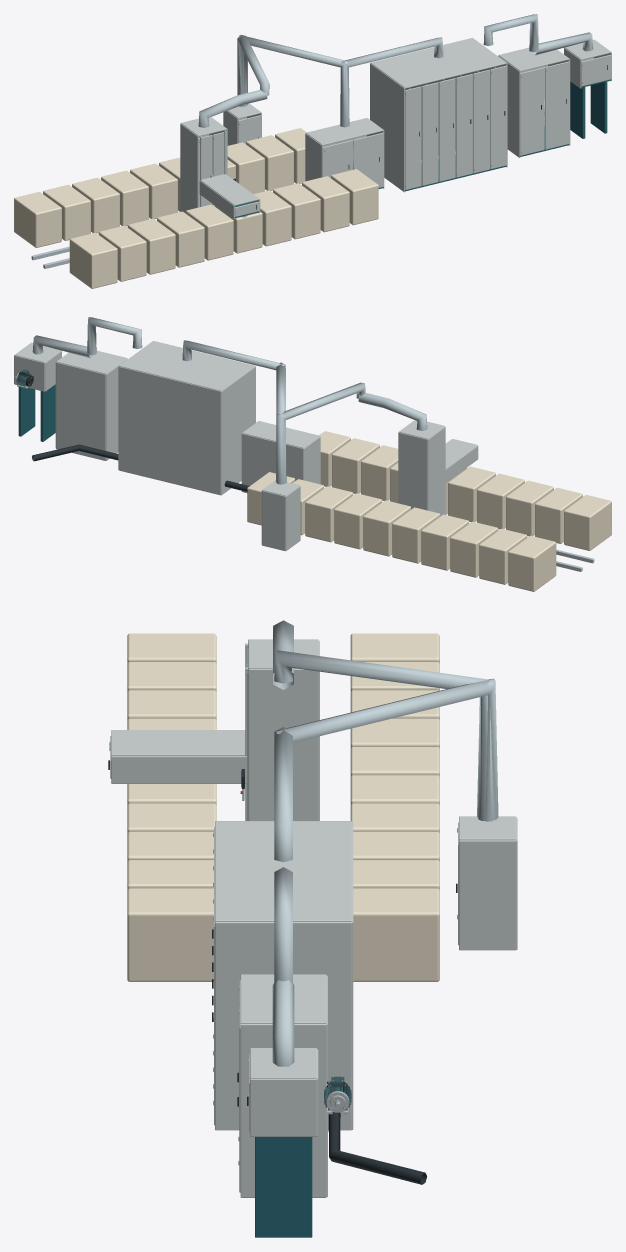
Rendered from opening.glb.
The picture shows the model from 3 angles, top to bottom: view 1: azimuth 30°, elevation 25°; view 2: azimuth 150°, elevation 25°; view 3: azimuth 270°, elevation 25°; orthographic projection. The views are drawn at different scales.
Visible parts, largest first — view 1: B72_roof, B72_end, cotton_bale, cotton_bale.001, A79_door.001, A79_door, B72_door, B72_door.001, B72_door.002, B72_door.005, B72_door.003, B72_door.004 (+42 smaller); view 2: B72_rear, A79_rear, B72_roof, B72_end, cotton_bale.001, cotton_bale, A12_tower_rear, B12_rear, cotton_bale.003, cotton_bale.005, cotton_bale.015, cotton_bale.007 (+33 smaller); view 3: B72_end.001, B72_roof, A12_tower_end.001, cotton_bale.019, cotton_bale.018, A49_end.001, condenser_support.001, intermachine_tuft_duct, A79_end.001, intermachine_tuft_duct.001, A21_end.001, A12_plucking_arm_end.001 (+27 smaller).
Boxes of the visible parts, <box> form: B72_roof: <box>371,38,506,88</box>; B72_end: <box>370,63,405,192</box>; cotton_bale: <box>69,232,117,288</box>; cotton_bale.001: <box>14,192,61,247</box>; A79_door.001: <box>545,61,569,149</box>; A79_door: <box>520,67,544,155</box>; B72_door: <box>405,86,421,189</box>; B72_door.001: <box>422,82,438,185</box>; B72_door.002: <box>439,78,455,181</box>; B72_door.005: <box>490,65,506,169</box>; B72_door.003: <box>456,74,472,177</box>; B72_door.004: <box>473,69,489,173</box>; B72_rear: <box>118,366,221,495</box>; A79_rear: <box>56,362,105,460</box>; B72_roof: <box>119,341,254,390</box>; B72_end: <box>221,366,255,495</box>; cotton_bale.001: <box>508,535,556,591</box>; cotton_bale: <box>564,495,611,550</box>; A12_tower_rear: <box>398,432,427,510</box>; B12_rear: <box>242,433,303,492</box>; cotton_bale.003: <box>479,528,527,584</box>; cotton_bale.005: <box>450,521,498,577</box>; cotton_bale.015: <box>305,486,352,542</box>; cotton_bale.007: <box>421,514,468,570</box>; B72_end.001: <box>215,922,351,1130</box>; B72_roof: <box>215,821,351,921</box>; A12_tower_end.001: <box>248,668,318,820</box>; cotton_bale.019: <box>353,888,439,981</box>; cotton_bale.018: <box>127,888,213,981</box>; A49_end.001: <box>459,840,516,950</box>; condenser_support.001: <box>255,1137,312,1237</box>; intermachine_tuft_duct: <box>274,650,498,821</box>; A79_end.001: <box>240,1024,326,1197</box>; intermachine_tuft_duct.001: <box>276,678,496,821</box>; A21_end.001: <box>250,1078,316,1136</box>; A12_plucking_arm_end.001: <box>111,756,247,783</box>.
Bounding box in the file's own units: 20.47 × 4.47 × 6.42.
